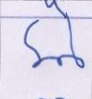ai_matra: (42, 0, 70, 15)
